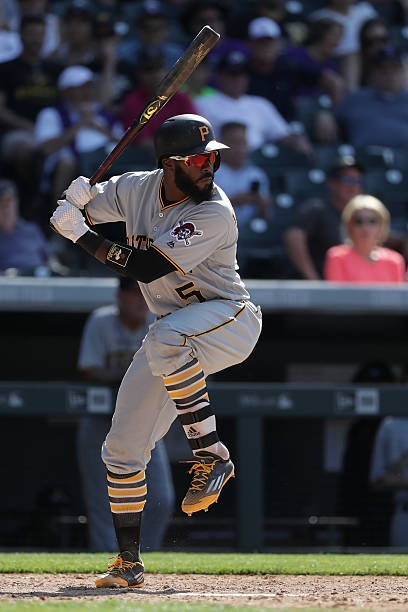bita: (89, 24, 217, 184)
